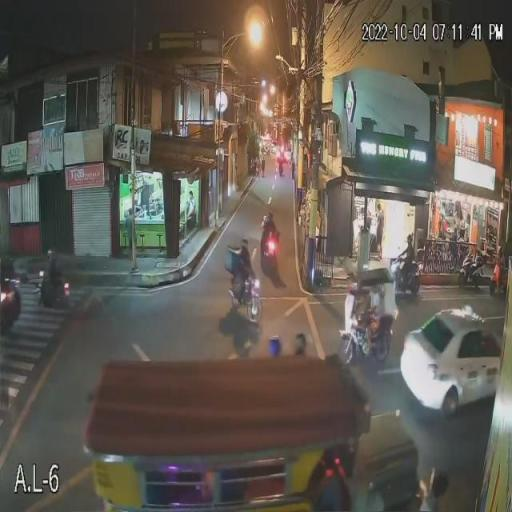helmet: (234, 235, 256, 252), (404, 234, 416, 248)
motorcycle: (220, 248, 277, 327), (379, 256, 427, 296)
rider: (230, 250, 259, 301), (394, 244, 418, 291)
